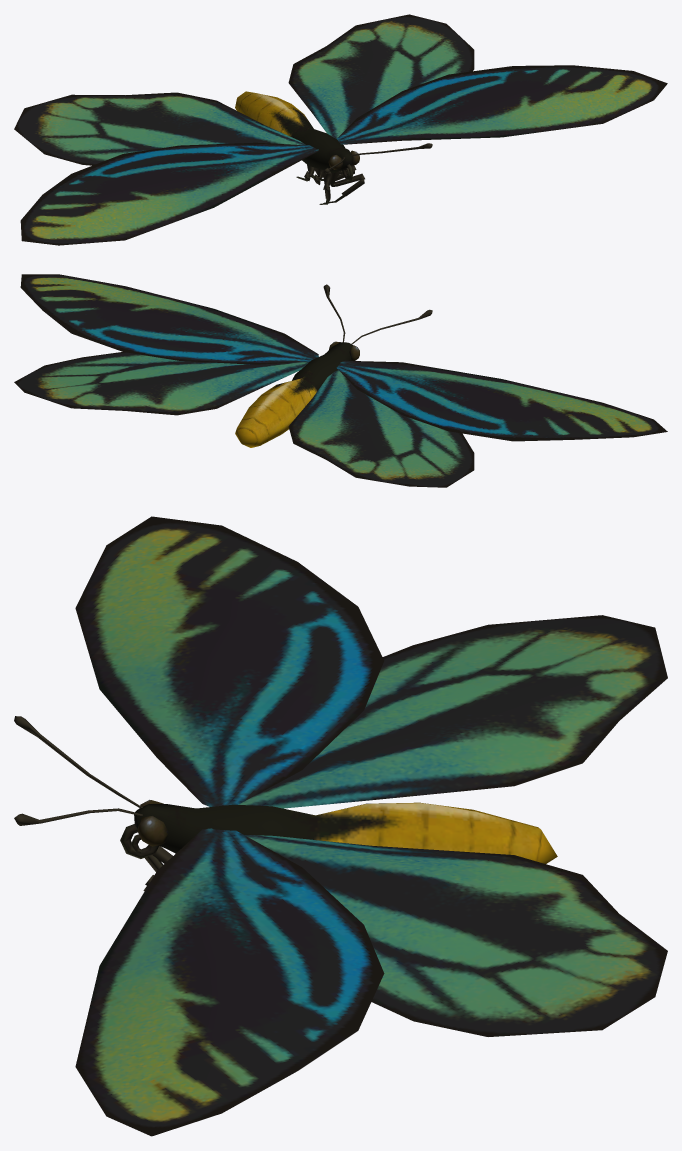
Rendered from InsectArekisandoratoribaneageha.glb.
3 renders of one model, top to bottom at view 1: azimuth 30°, elevation 25°; view 2: azimuth 150°, elevation 25°; view 3: azimuth 270°, elevation 25°, orthographic. The views are drawn at different scales.
Visible parts, largest first — view 1: group1__mArekisandoratoribaneageha; view 2: group1__mArekisandoratoribaneageha; view 3: group1__mArekisandoratoribaneageha.
Boxes of the visible parts, box(x1,y1,x2,y2) form: group1__mArekisandoratoribaneageha: box(14, 14, 667, 245); group1__mArekisandoratoribaneageha: box(14, 274, 667, 487); group1__mArekisandoratoribaneageha: box(14, 516, 667, 1136).
Bounding box in the file's own units: 10.31 × 1.36 × 4.6.
Materials: 1 (1 with a texture image).
